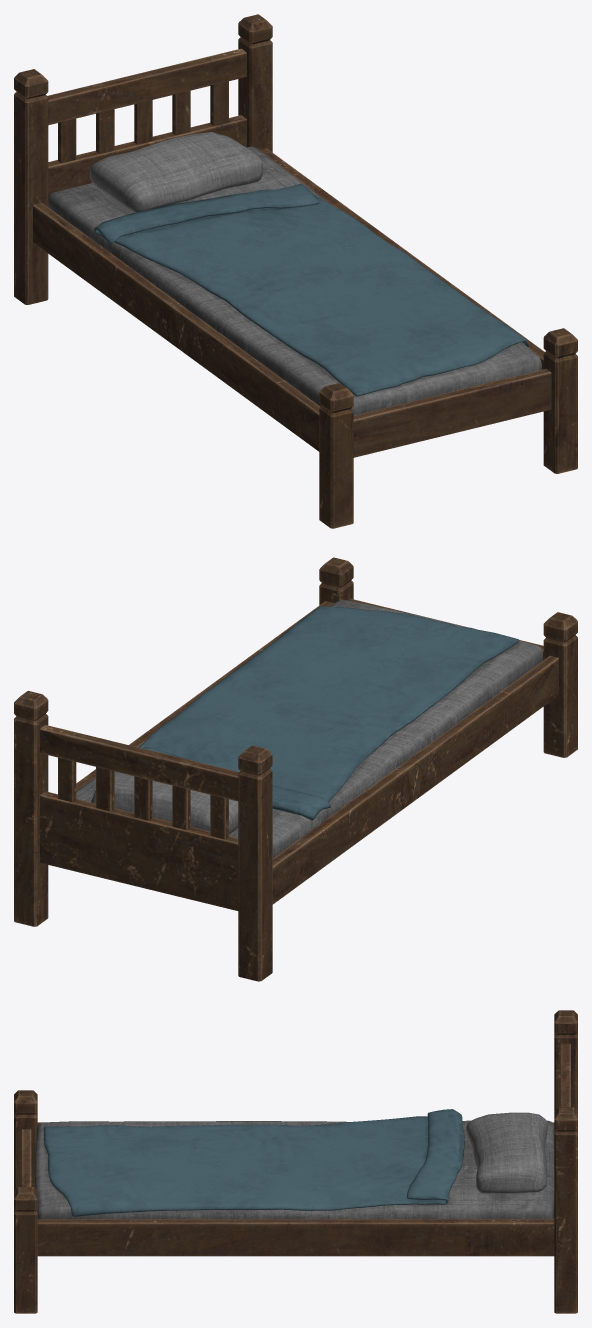
Rendered from bed.glb.
3 renders of one model, top to bottom at view 1: azimuth 30°, elevation 25°; view 2: azimuth 150°, elevation 25°; view 3: azimuth 270°, elevation 25°, orthographic. The views are drawn at different scales.
Parts seen in each view (by area): view 1: Bed; view 2: Bed; view 3: Bed.
Boxes of the visible parts, <box> form: Bed: <box>14,14,577,528</box>; Bed: <box>14,557,577,981</box>; Bed: <box>14,1010,577,1313</box>.
Size of the model in its own units: 0.7864 by 0.6819 by 1.76.
1 material, 1 textured.
